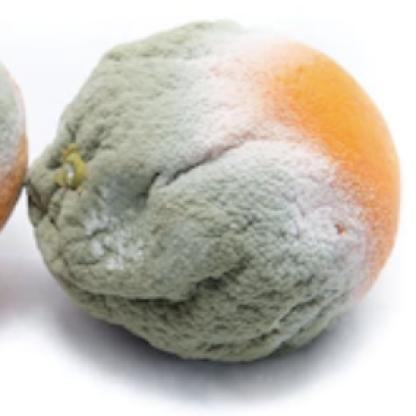rotten: (32, 20, 404, 369)
